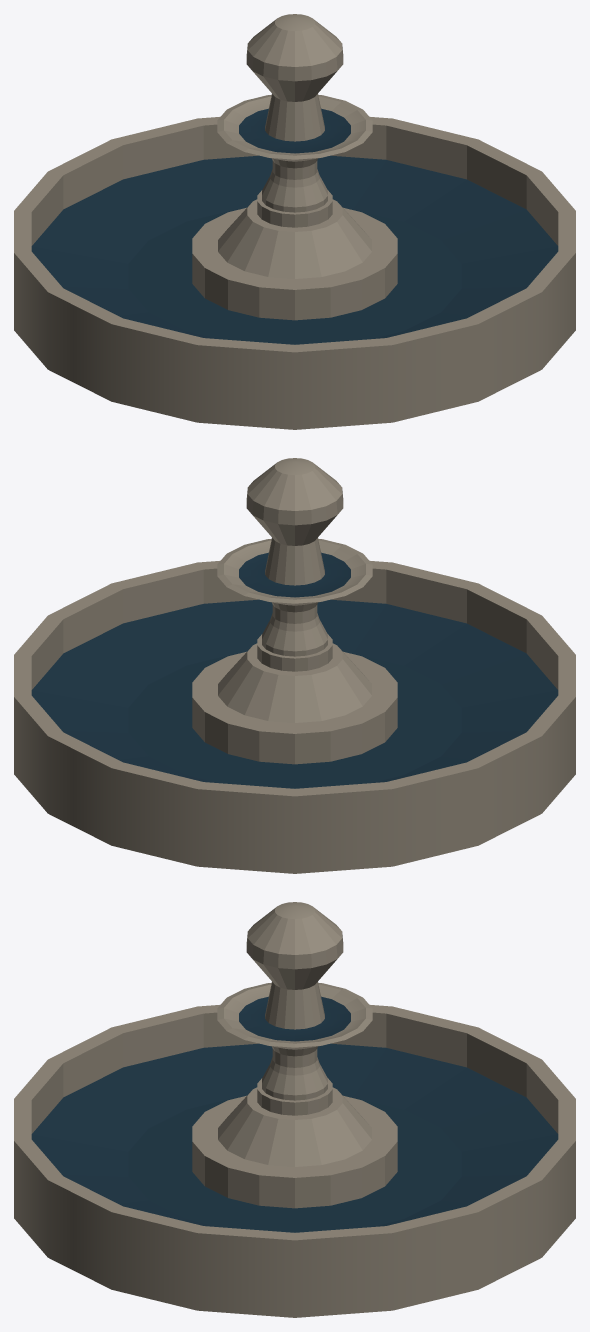
File: p_fountain.fbx
The picture shows the model from 3 angles, top to bottom: view 1: azimuth 30°, elevation 25°; view 2: azimuth 150°, elevation 25°; view 3: azimuth 270°, elevation 25°; orthographic projection.
Visible parts, largest first — view 1: pCylinder33; view 2: pCylinder33; view 3: pCylinder33.
Boxes of the visible parts, box(x1,y1,x2,y2) form: pCylinder33: box(14, 14, 575, 429); pCylinder33: box(14, 458, 575, 873); pCylinder33: box(14, 902, 575, 1317).
Bounding box in the file's own units: 800 × 450 × 788.
